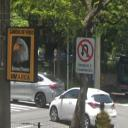NoVirarU: (77, 39, 94, 62)
